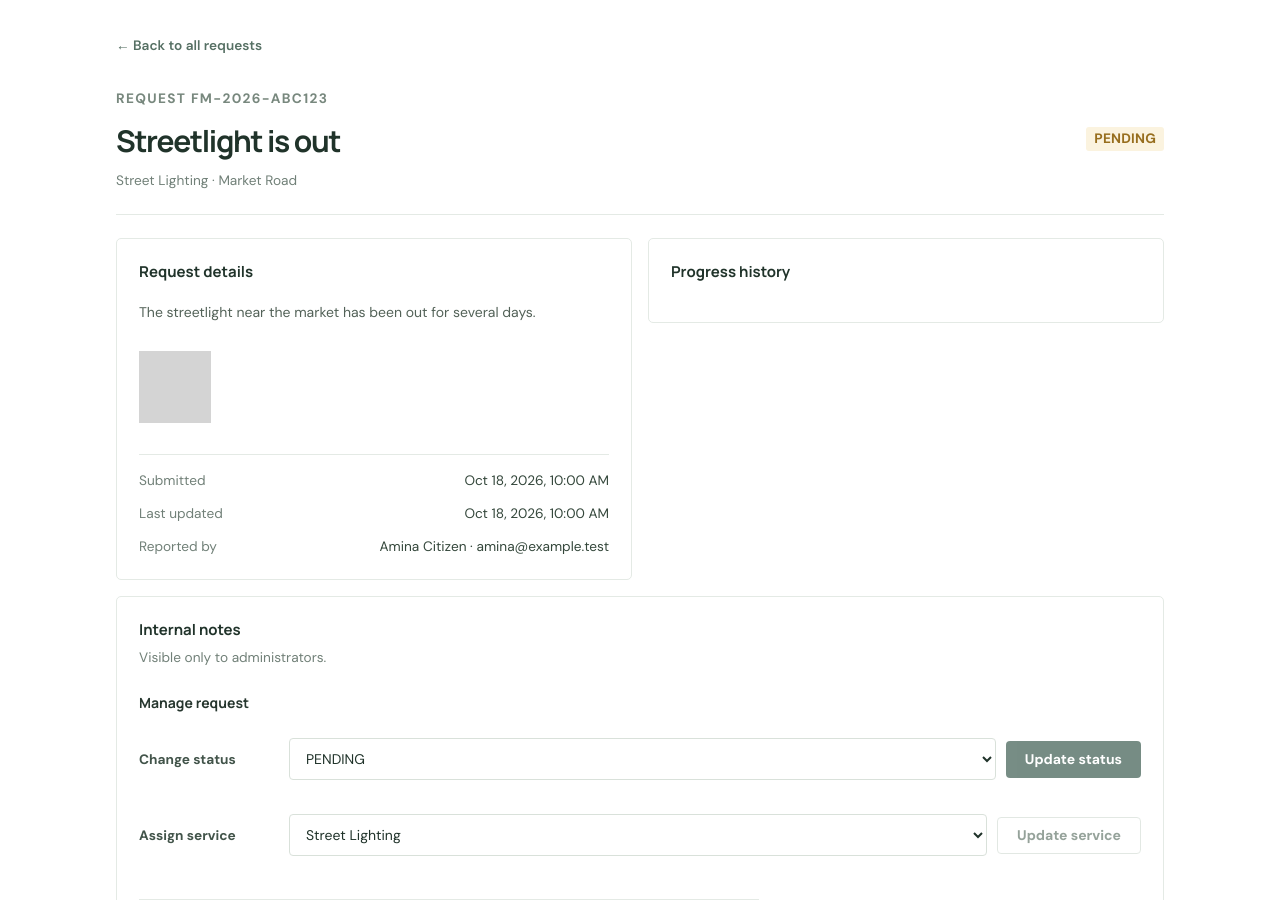
it: administrator request controls › sends category assignments to the existing endpoint and updates the displayed category
Expected: the heading "Manage request" is shown, [139,693,249,712]
Select "Public Facilities" in the dropdown labelled "Assign service" at (638, 835), box [289,814,987,856]
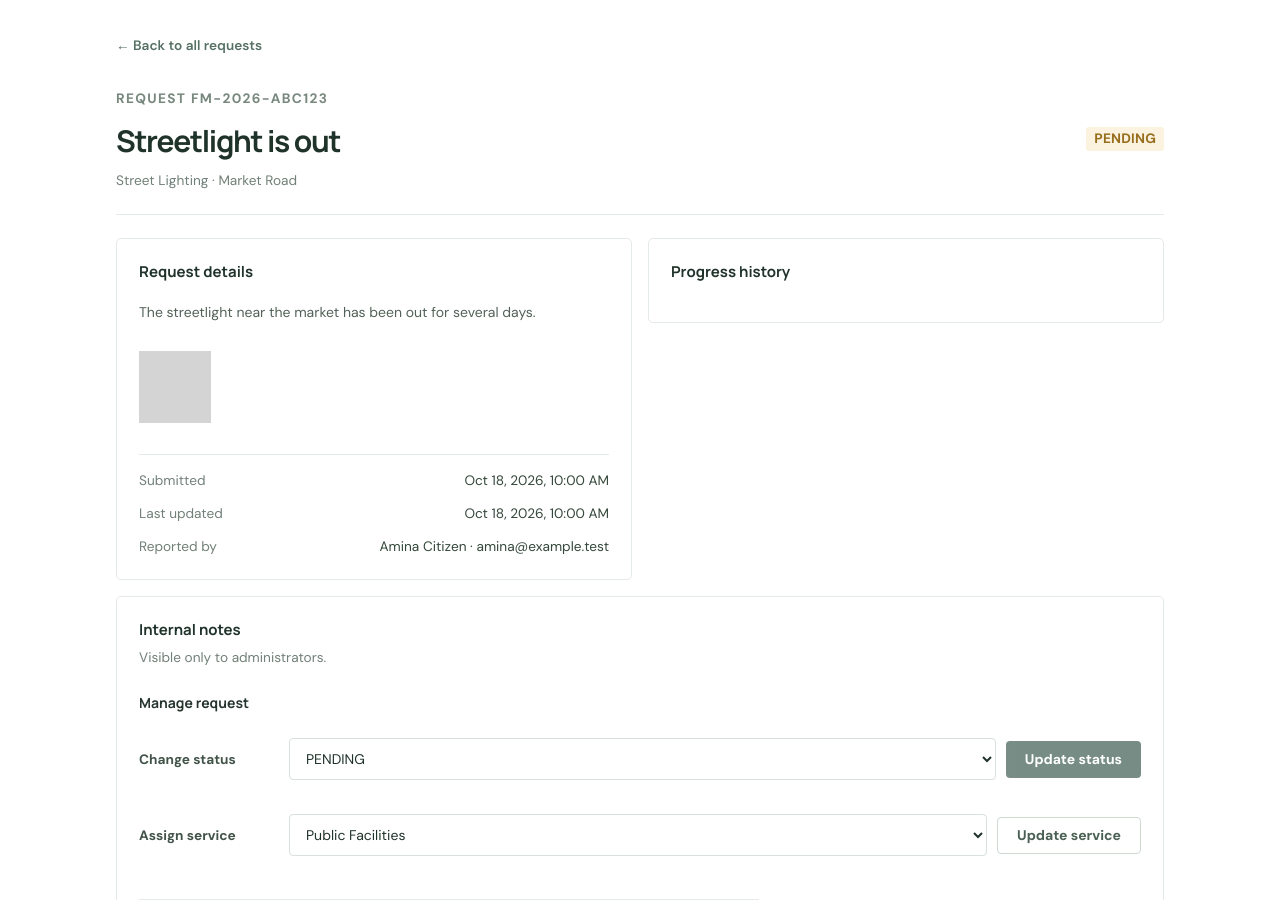
Click the button "Update service" at (1069, 835), box [997,817,1141,854]
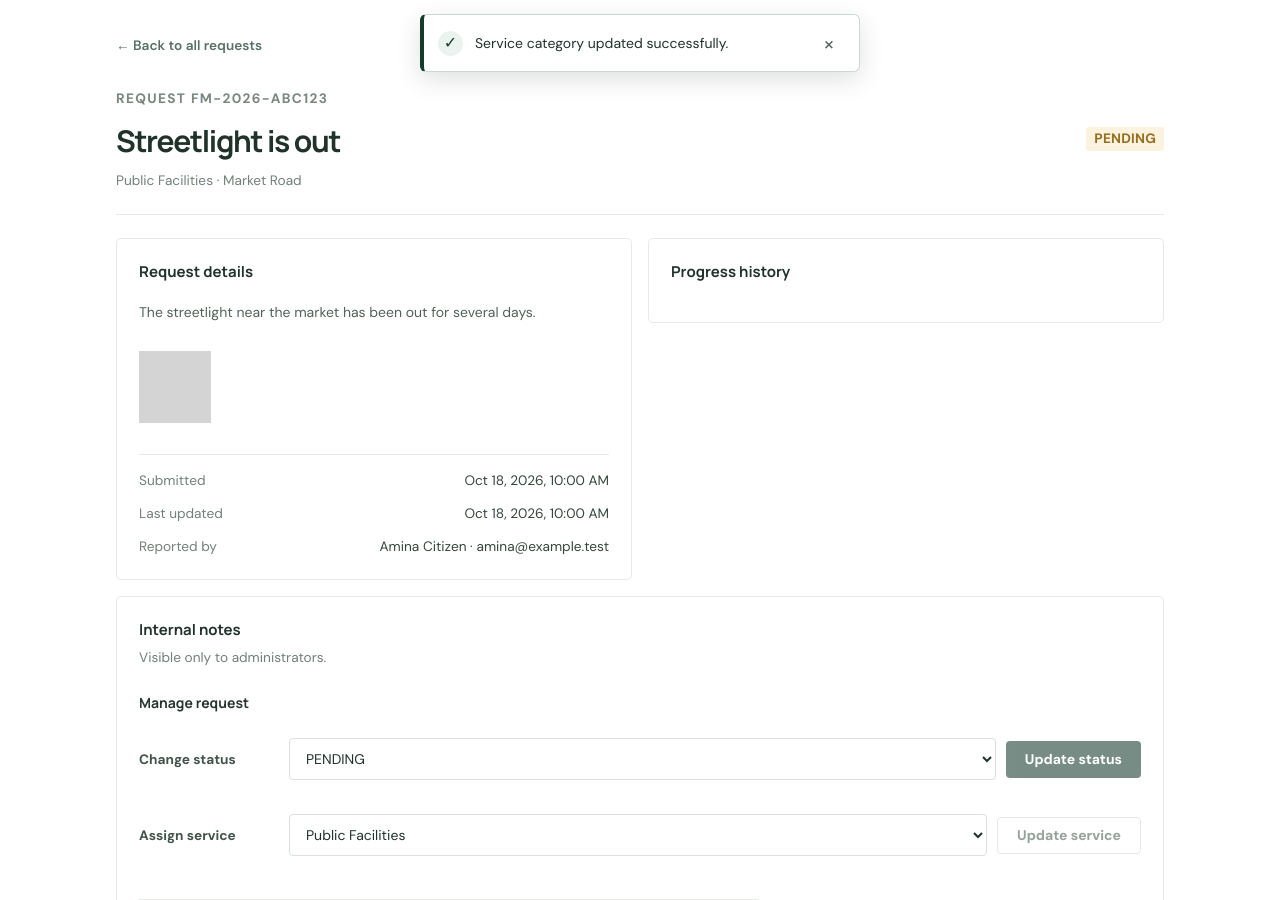
Expected: the message shows "Service category updated successfully.", [475,34,728,52]
Expected: the element showing "Public Facilities · Market Road" is shown, [116,172,302,190]
